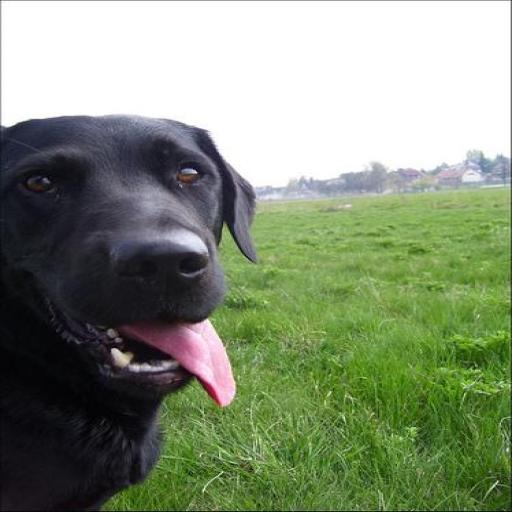dog_face: (3, 107, 258, 389)
